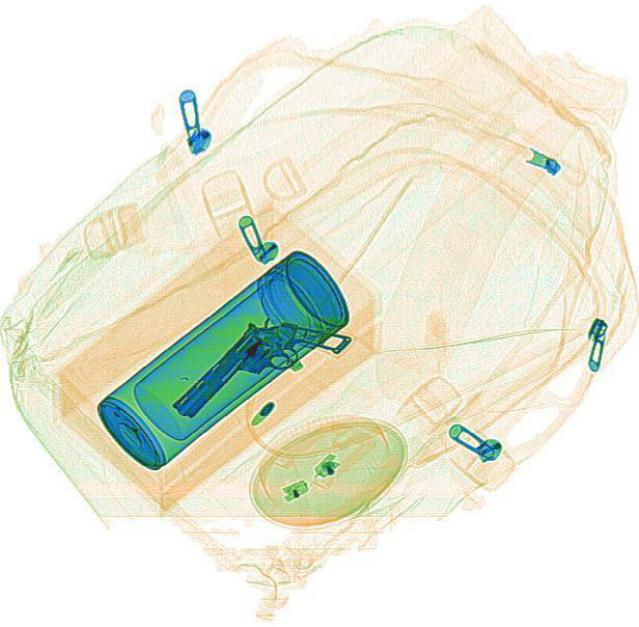Gun: (167, 285, 350, 456)
